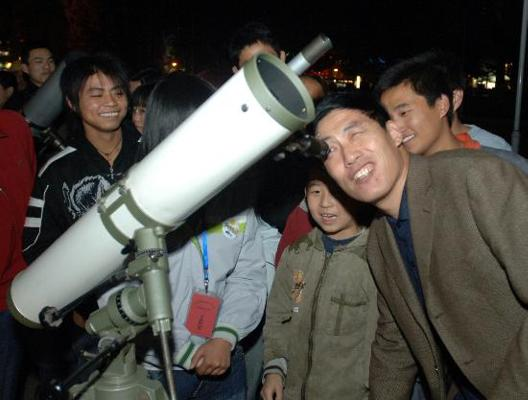person: (314, 97, 528, 399)
